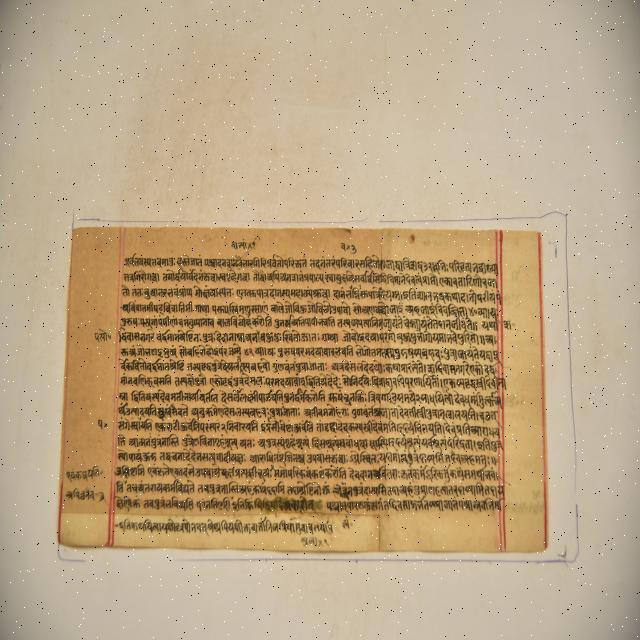text_paragraph: (54, 226, 546, 548)
